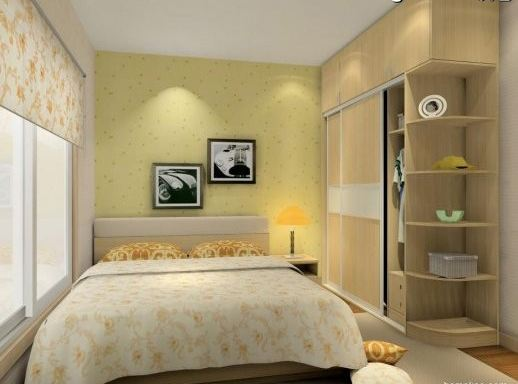床: (38, 252, 355, 384)
枕头: (93, 239, 279, 266)
灯: (272, 203, 312, 264)
